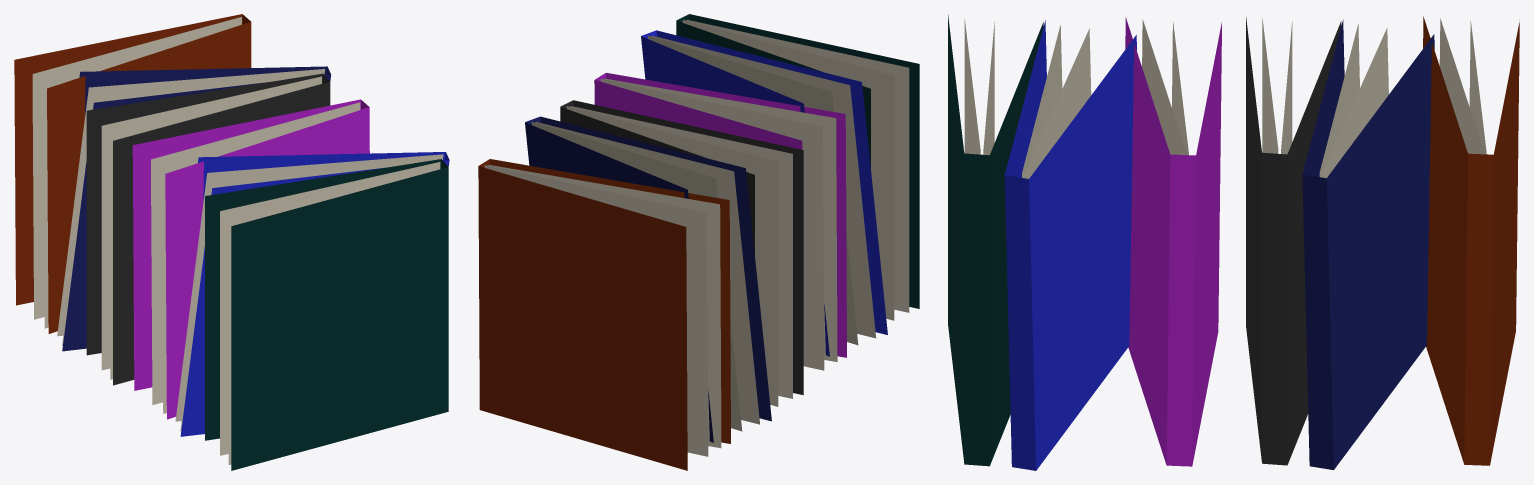
File: Books-OnShelf-Office_02.fbx
3 views of the same model, side by side, from view 1: azimuth 30°, elevation 25°; view 2: azimuth 150°, elevation 25°; view 3: azimuth 270°, elevation 25° (orthographic). The views are drawn at different scales.
Visible parts, largest first — view 1: Books-OnShelf-_02; view 2: Books-OnShelf-_02; view 3: Books-OnShelf-_02.
Boxes of the visible parts, x1,y1,x2,y2 form: Books-OnShelf-_02: (14,14,449,470); Books-OnShelf-_02: (478,14,919,470); Books-OnShelf-_02: (948,15,1519,470).
Size of the model in its own units: 0.3347 by 0.3209 by 0.5067.
